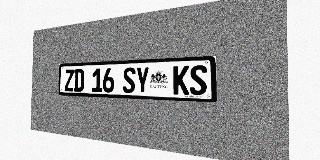1: (92, 68, 103, 92)
6: (103, 68, 114, 93)
D: (74, 69, 84, 92)
K: (173, 65, 189, 95)
S: (190, 65, 207, 95), (123, 67, 135, 93)
Y: (136, 67, 149, 94)
Z: (64, 69, 74, 91)
